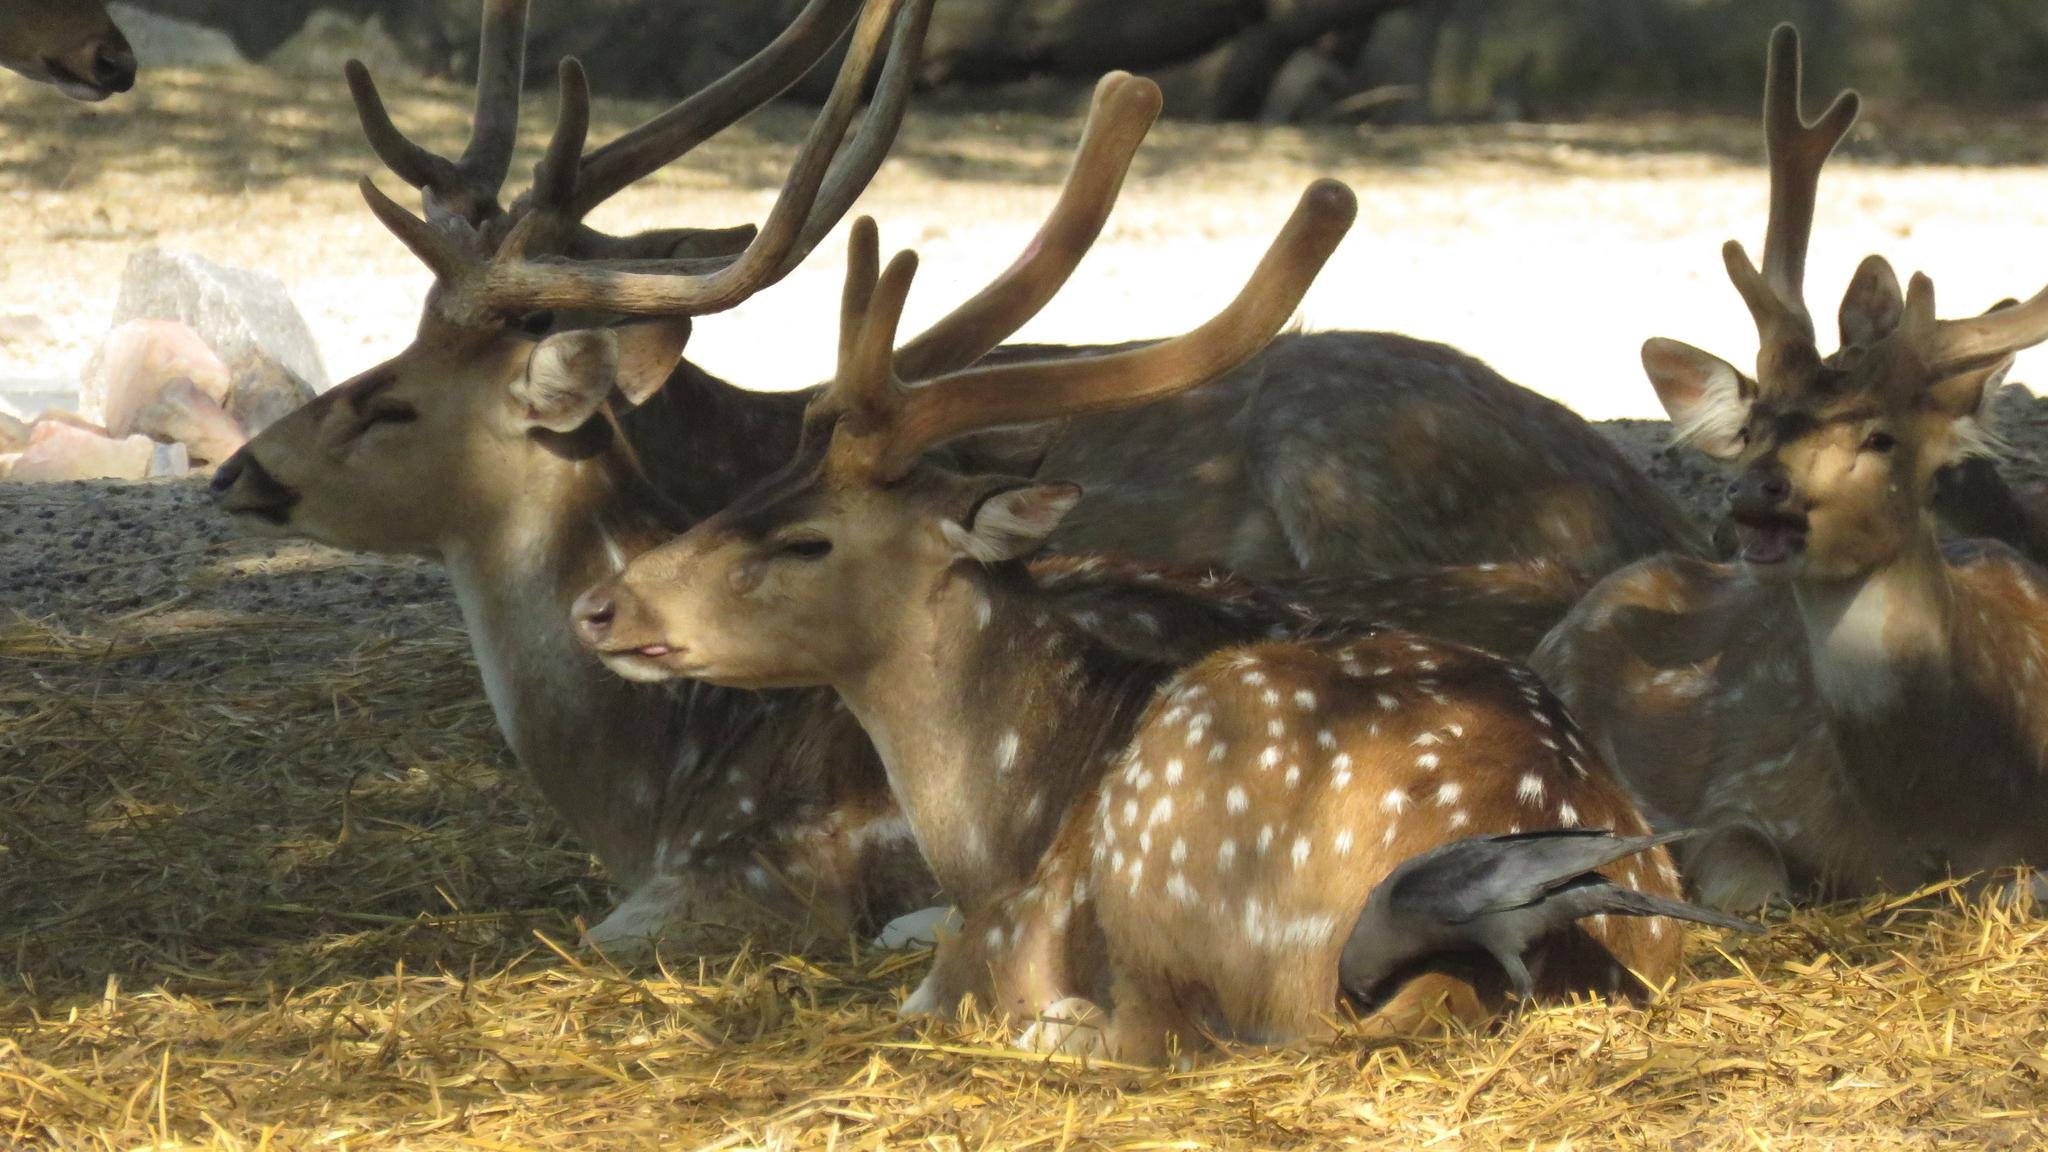Deer: (572, 73, 1757, 1062), (1529, 24, 2047, 911)
